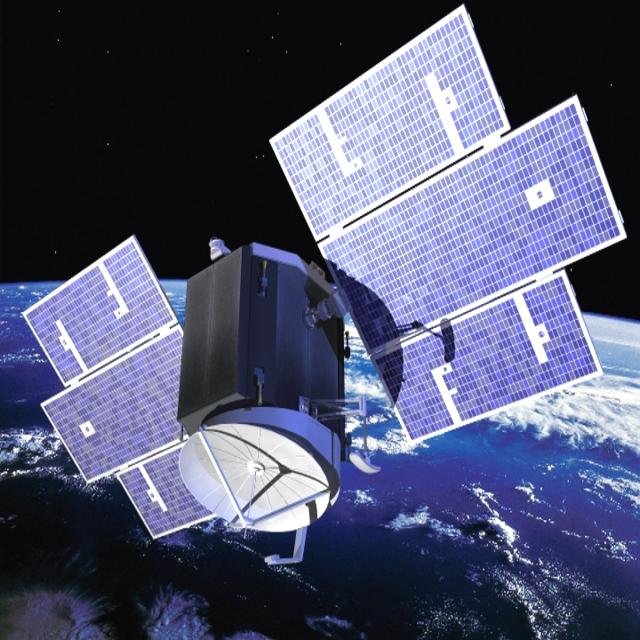satellite: (16, 7, 628, 570)
